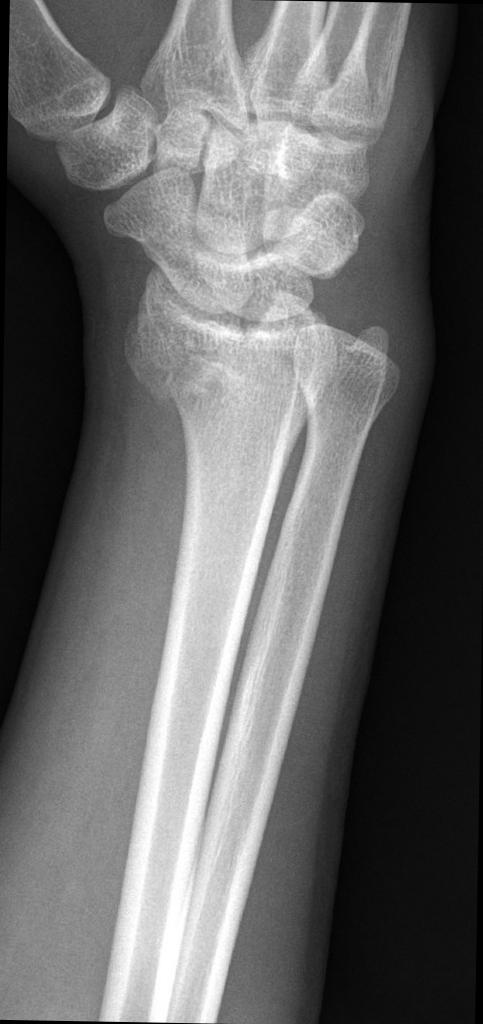line: (152, 355, 298, 413)
